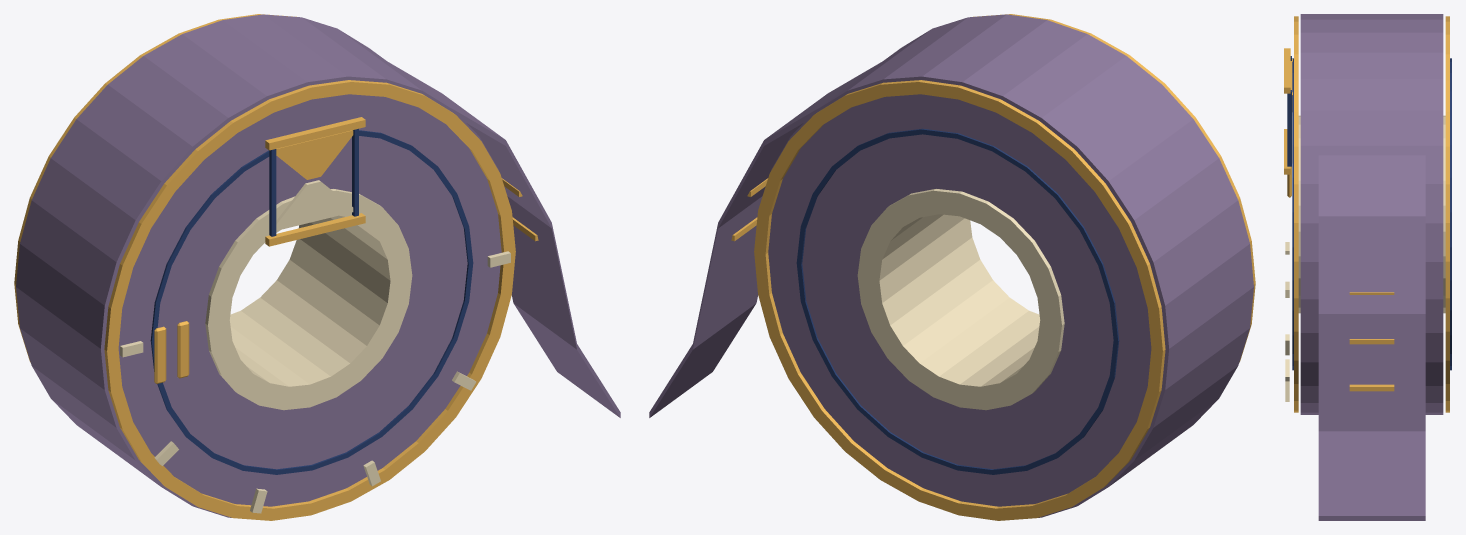
Rendered from magic_stasis_tape.glb.
3 views of the same model, side by side, from view 1: azimuth 30°, elevation 25°; view 2: azimuth 150°, elevation 25°; view 3: azimuth 270°, elevation 25° (orthographic). The views are drawn at different scales.
Parts seen in each view (by area): view 1: magic_stasis_tape__purple_tape_winding, magic_stasis_tape__hollow_paper_core, magic_stasis_tape__gold_roll_rim_-1, magic_stasis_tape__peeled_tape_tail, magic_stasis_tape__winding_line_-1, magic_stasis_tape, magic_stasis_tape__hourglass_bottom, magic_stasis_tape__hourglass_top, magic_stasis_tape__hourglass_frame_0.161, magic_stasis_tape__hourglass_frame_0.121, magic_stasis_tape__pause_bar_-0.057, magic_stasis_tape__pause_bar_-0.067 (+1 smaller); view 2: magic_stasis_tape__purple_tape_winding, magic_stasis_tape__hollow_paper_core, magic_stasis_tape, magic_stasis_tape__peeled_tape_tail, magic_stasis_tape__gold_roll_rim_-1; view 3: magic_stasis_tape__peeled_tape_tail, magic_stasis_tape__purple_tape_winding, magic_stasis_tape, magic_stasis_tape__gold_roll_rim_-1, magic_stasis_tape__hollow_paper_core, magic_stasis_tape__winding_line_-1, magic_stasis_tape__hourglass_post_0.018, magic_stasis_tape__hourglass_frame_0.161, magic_stasis_tape__hourglass_frame_0.121.
Boxes of the visible parts, x1,y1,x2,y2 form: magic_stasis_tape__purple_tape_winding: [16, 14, 501, 517]; magic_stasis_tape__hollow_paper_core: [205, 189, 412, 410]; magic_stasis_tape__gold_roll_rim_-1: [104, 80, 515, 520]; magic_stasis_tape__peeled_tape_tail: [389, 62, 620, 417]; magic_stasis_tape__winding_line_-1: [150, 130, 473, 474]; magic_stasis_tape: [14, 14, 538, 513]; magic_stasis_tape__hourglass_bottom: [268, 180, 353, 230]; magic_stasis_tape__hourglass_top: [276, 130, 353, 179]; magic_stasis_tape__hourglass_frame_0.161: [265, 117, 365, 150]; magic_stasis_tape__hourglass_frame_0.121: [265, 213, 365, 246]; magic_stasis_tape__pause_bar_-0.057: [177, 321, 189, 378]; magic_stasis_tape__pause_bar_-0.067: [154, 326, 166, 383]; magic_stasis_tape__purple_tape_winding: [768, 14, 1253, 517]; magic_stasis_tape__hollow_paper_core: [857, 189, 1064, 410]; magic_stasis_tape: [731, 80, 1165, 520]; magic_stasis_tape__peeled_tape_tail: [649, 62, 880, 417]; magic_stasis_tape__gold_roll_rim_-1: [973, 14, 1255, 362]; magic_stasis_tape__peeled_tape_tail: [1318, 155, 1425, 520]; magic_stasis_tape__purple_tape_winding: [1300, 14, 1443, 414]; magic_stasis_tape: [1285, 16, 1451, 412]; magic_stasis_tape__gold_roll_rim_-1: [1294, 16, 1298, 412]; magic_stasis_tape__hollow_paper_core: [1298, 115, 1445, 313]; magic_stasis_tape__winding_line_-1: [1292, 58, 1293, 370]; magic_stasis_tape__hourglass_post_0.018: [1287, 90, 1291, 166]; magic_stasis_tape__hourglass_frame_0.161: [1284, 48, 1290, 93]; magic_stasis_tape__hourglass_frame_0.121: [1284, 129, 1290, 174].
Size of the model in its own units: 0.231 by 0.18 by 0.0753.
